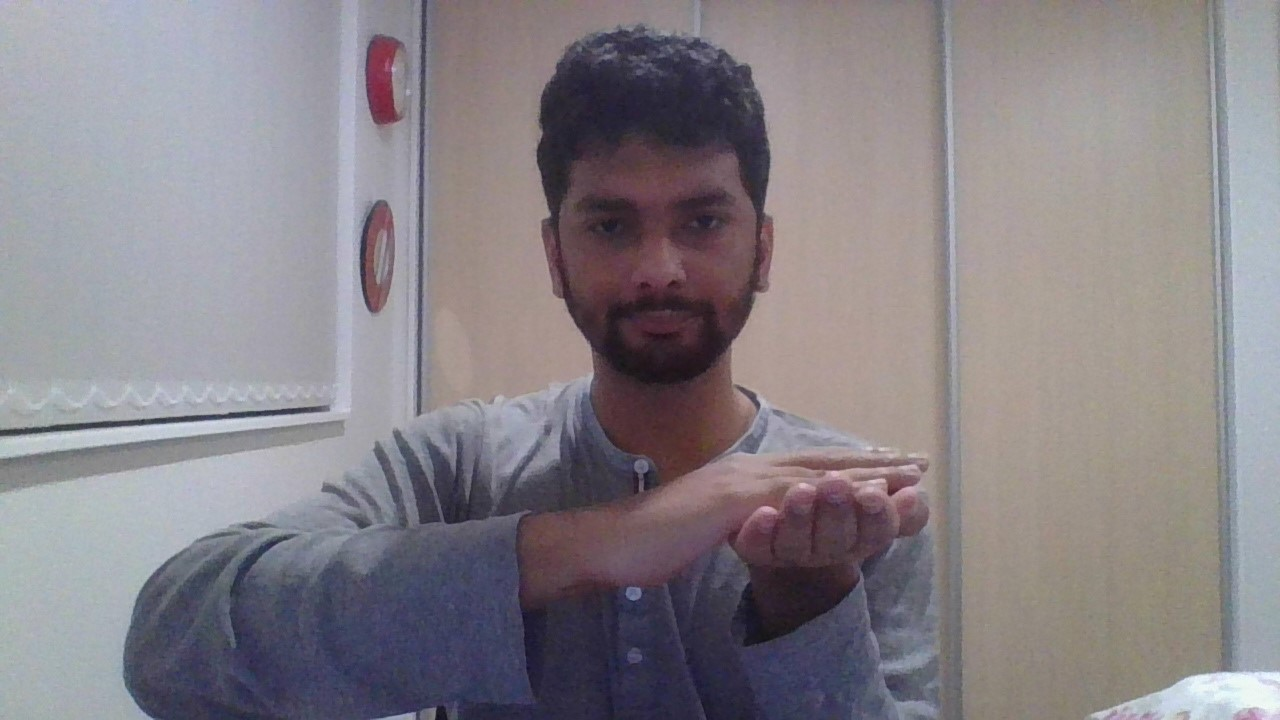clear: (590, 444, 930, 591)
